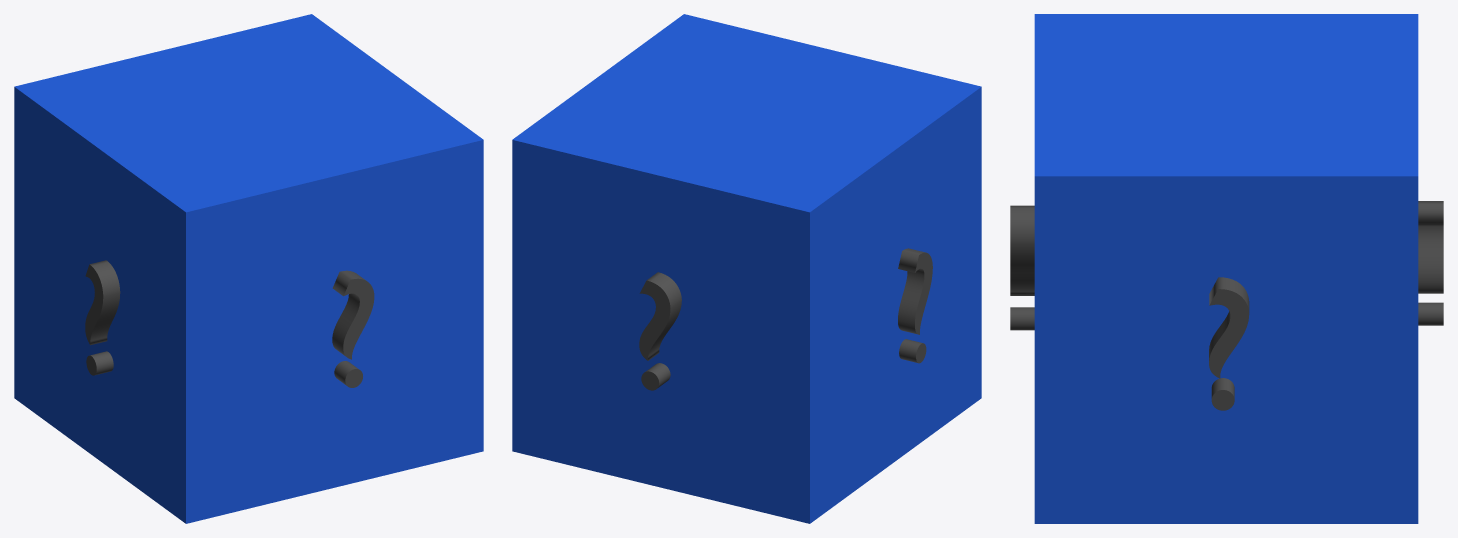
The model's file is rare.glb.
3 views of the same model, side by side, from view 1: azimuth 30°, elevation 25°; view 2: azimuth 150°, elevation 25°; view 3: azimuth 270°, elevation 25° (orthographic). The views are drawn at different scales.
Visible parts, largest first — view 1: Cube, Text.003, Text.002; view 2: Cube, Text.001, Text.002; view 3: Cube, Text, Text.001, Text.003.
Boxes of the visible parts, x1,y1,x2,y2 form: Cube: [14, 14, 483, 523]; Text.003: [332, 270, 374, 387]; Text.002: [85, 260, 120, 375]; Cube: [512, 14, 981, 523]; Text.001: [639, 272, 681, 390]; Text.002: [898, 248, 932, 363]; Cube: [1034, 14, 1418, 523]; Text: [1209, 277, 1249, 410]; Text.001: [1418, 201, 1443, 325]; Text.003: [1010, 205, 1034, 330].
Bounding box in the file's own units: 2.26 × 2 × 2.26.
